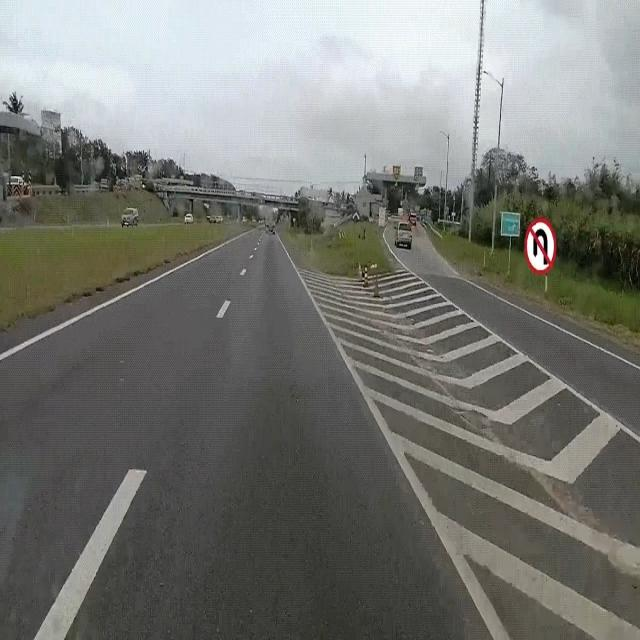Demi-Tour-Interdit: (522, 210, 560, 279)
